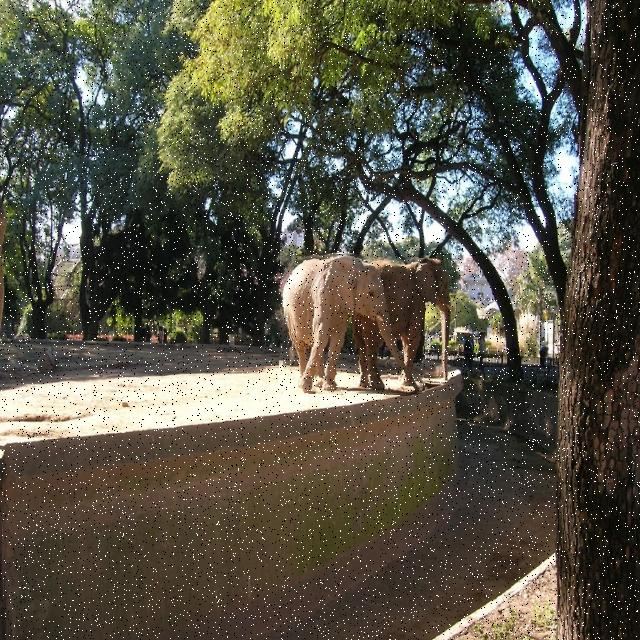elephant: (280, 251, 425, 394)
